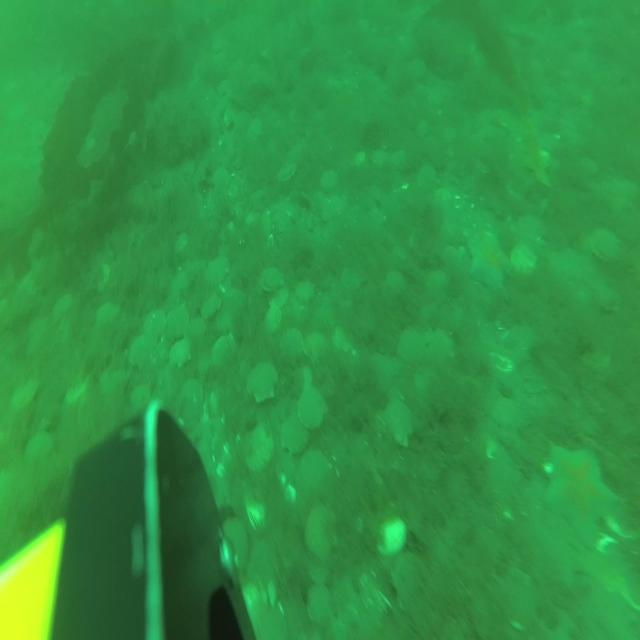scallop: (304, 502, 338, 558), (242, 421, 275, 473), (218, 516, 250, 569), (383, 399, 416, 449), (244, 357, 279, 404), (375, 513, 409, 558), (297, 384, 329, 430), (279, 409, 310, 456), (588, 224, 621, 266), (10, 376, 43, 416), (300, 446, 332, 487), (492, 395, 523, 434), (397, 328, 427, 366), (305, 586, 334, 625), (427, 329, 456, 368), (100, 362, 128, 400), (23, 431, 54, 464), (128, 332, 153, 369), (512, 241, 536, 279), (414, 363, 440, 398), (211, 334, 236, 370), (64, 377, 92, 409), (280, 325, 304, 362), (382, 270, 407, 305), (425, 265, 449, 301), (180, 377, 205, 411), (303, 329, 328, 363), (166, 302, 190, 337), (142, 307, 167, 340), (169, 336, 193, 369), (340, 264, 368, 292), (94, 298, 120, 328), (51, 292, 74, 325), (206, 255, 230, 286), (332, 323, 356, 354), (306, 556, 330, 586), (258, 266, 285, 292), (199, 292, 222, 321), (211, 164, 233, 192), (417, 163, 438, 192), (264, 302, 282, 333), (295, 279, 317, 304), (319, 168, 339, 195), (268, 285, 290, 309), (442, 244, 462, 270), (276, 160, 297, 183), (390, 148, 410, 172), (186, 315, 206, 338), (173, 229, 188, 257), (371, 146, 389, 168), (352, 148, 366, 169)
starfish: (543, 435, 619, 548), (465, 227, 513, 293)
